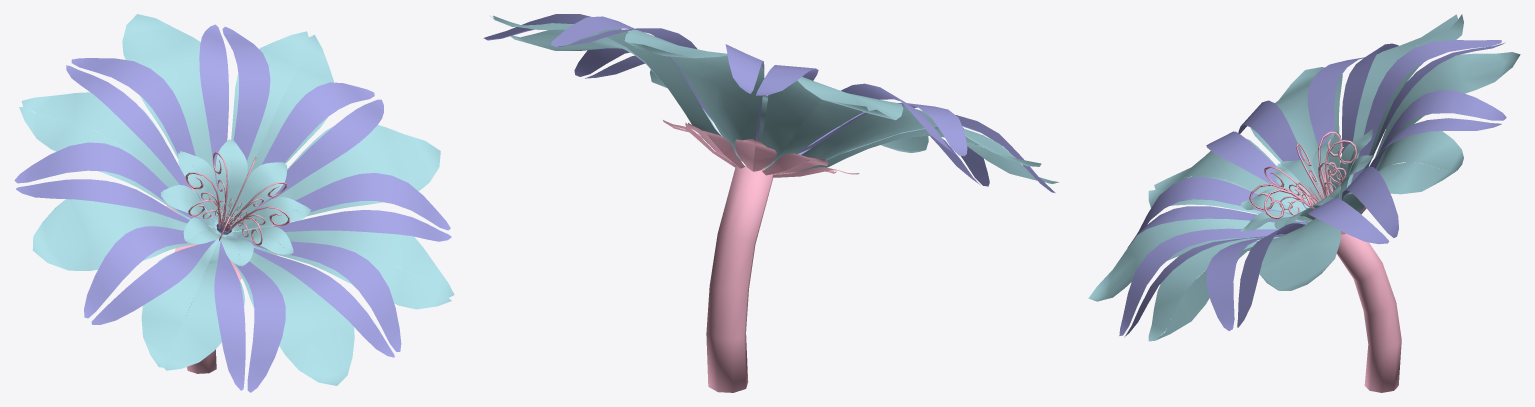
Rendered from bush_small.fbx.
The picture shows the model from 3 angles, left to right: view 1: azimuth 30°, elevation 25°; view 2: azimuth 150°, elevation 25°; view 3: azimuth 270°, elevation 25°; orthographic projection. The views are drawn at different scales.
Visible parts, largest first — view 1: Bush_Flower_Small; view 2: Bush_Flower_Small; view 3: Bush_Flower_Small.
Boxes of the visible parts, <box> form: Bush_Flower_Small: <box>14,14,454,392</box>; Bush_Flower_Small: <box>483,14,1058,392</box>; Bush_Flower_Small: <box>1088,14,1520,392</box>.
Bounding box in the file's own units: 499 × 358 × 424.
